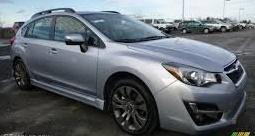Crossovers: (12, 9, 248, 135)
